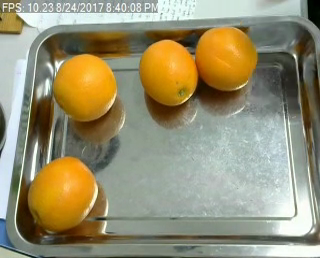Orange: (27, 156, 99, 231), (50, 52, 115, 121), (194, 26, 257, 88), (139, 39, 198, 105)
